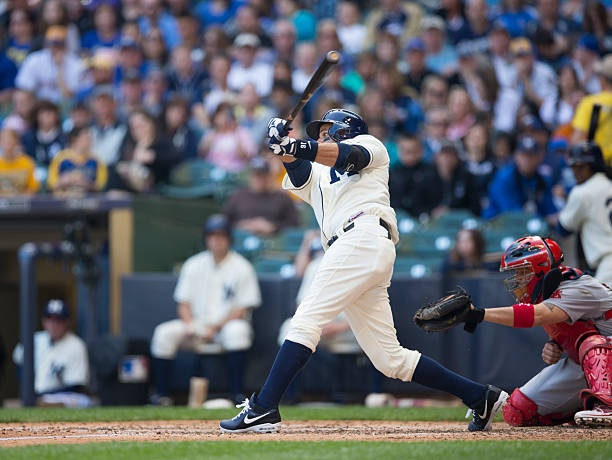bita: (274, 44, 342, 137)
